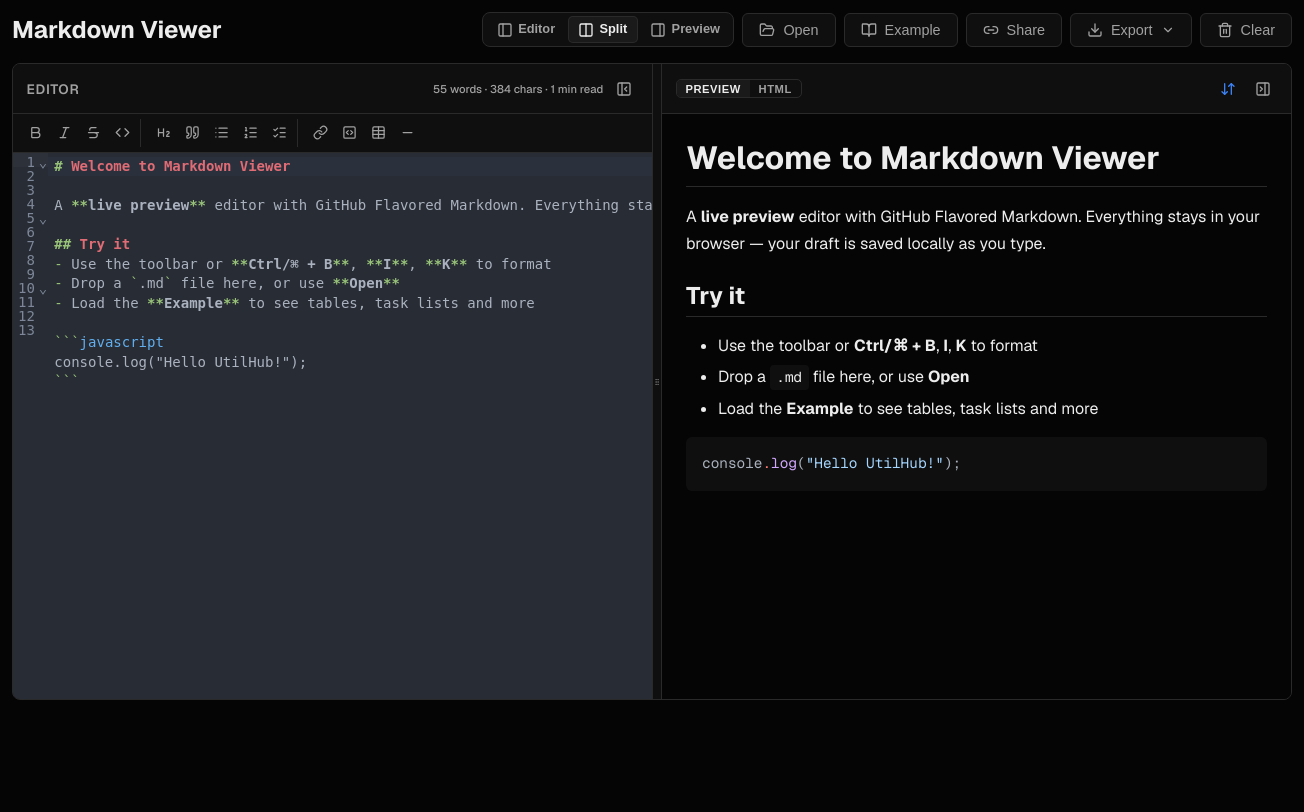
Test: MarkdownTool › collapses the editor from the pane header
This screenshot has width=1304, height=812.
Step 1. Click the button named "Collapse editor" → (624, 89), box 610,75 -> 638,103
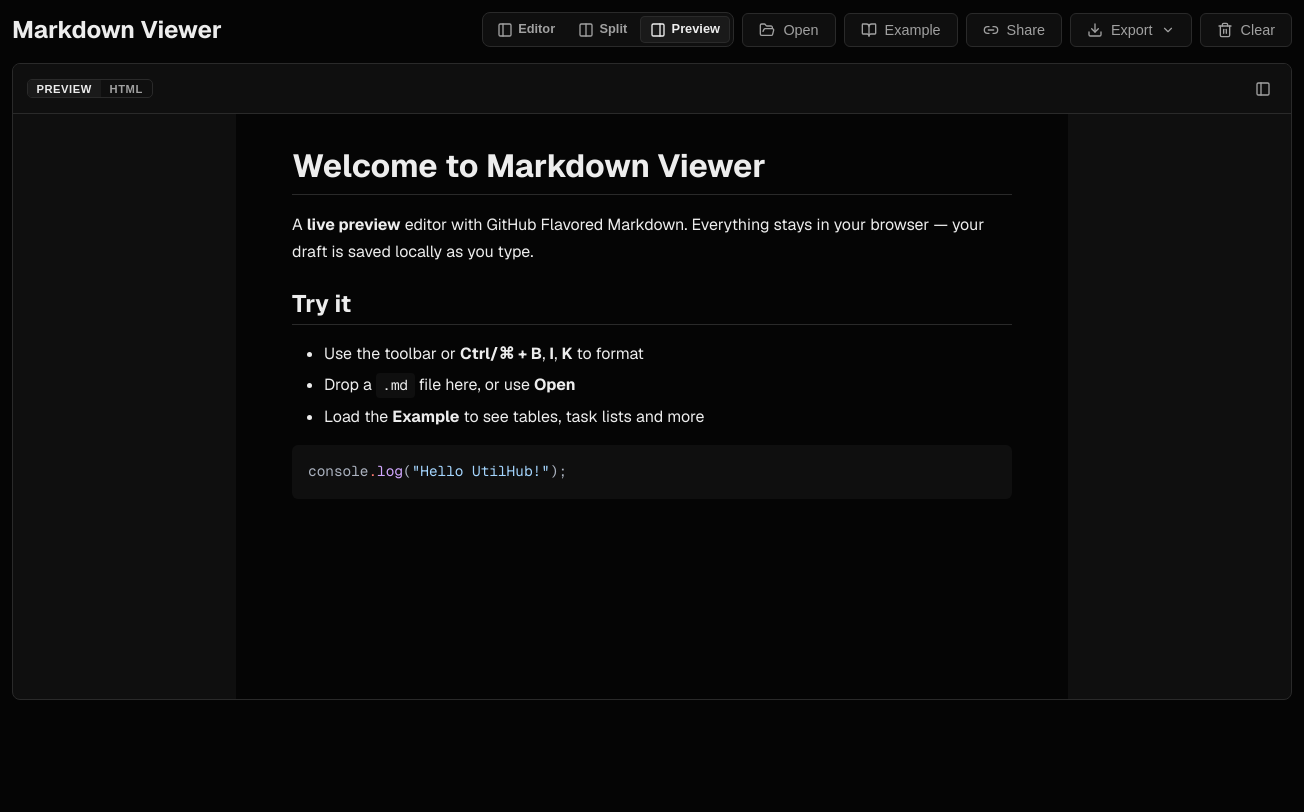
Expected: the button titled "Show editor" is shown, 1249,75 -> 1277,103
